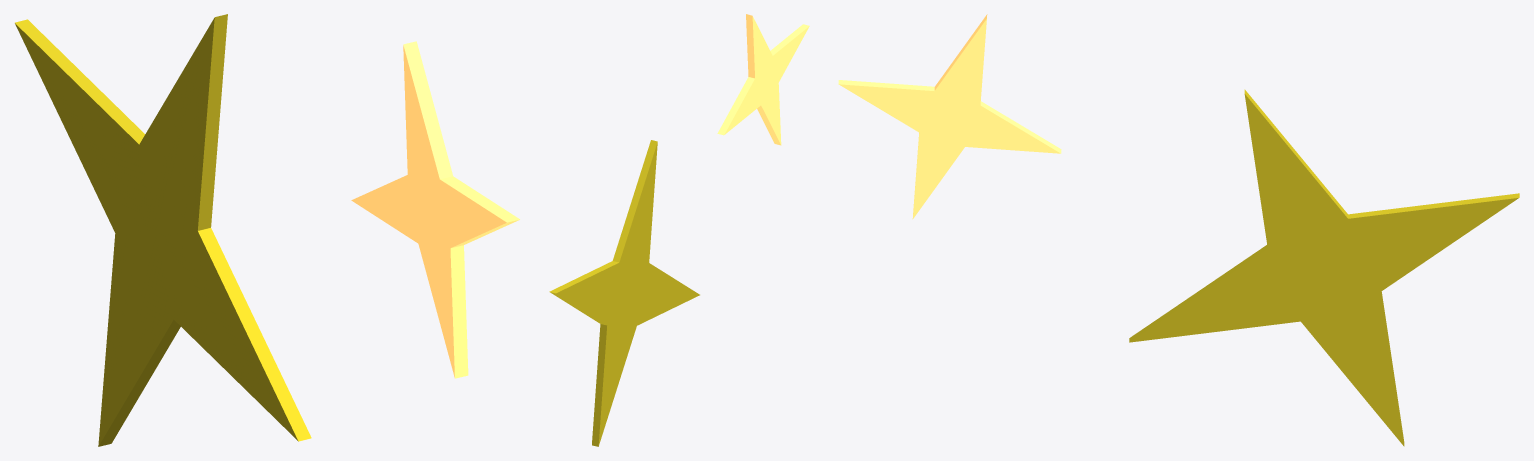
Rendered from Star.fbx.
3 views of the same model, side by side, from view 1: azimuth 30°, elevation 25°; view 2: azimuth 150°, elevation 25°; view 3: azimuth 270°, elevation 25° (orthographic). The views are drawn at different scales.
Parts seen in each view (by area): view 1: Star; view 2: Star; view 3: Star.
Boxes of the visible parts, bbox=[...] form: Star: bbox=[15, 14, 519, 446]; Star: bbox=[549, 14, 809, 446]; Star: bbox=[838, 14, 1519, 446].
Size of the model in its own units: 7.38 by 225 by 323.
